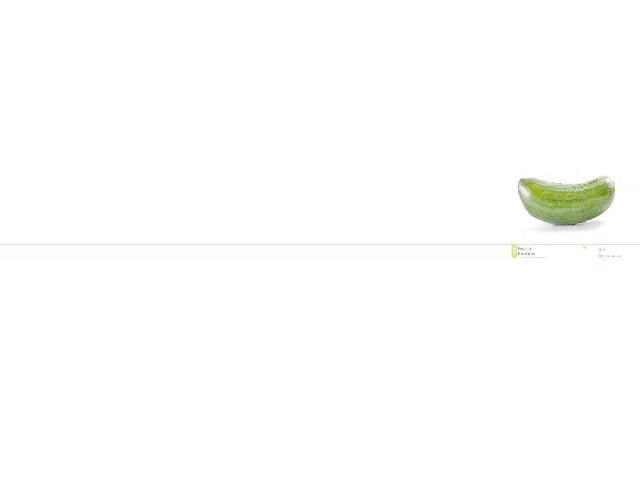cucumber: (518, 177, 615, 225)
